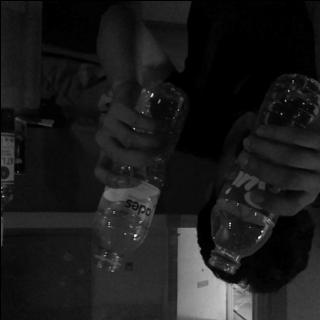plastic_bottles: (205, 72, 320, 271), (92, 78, 186, 275)
